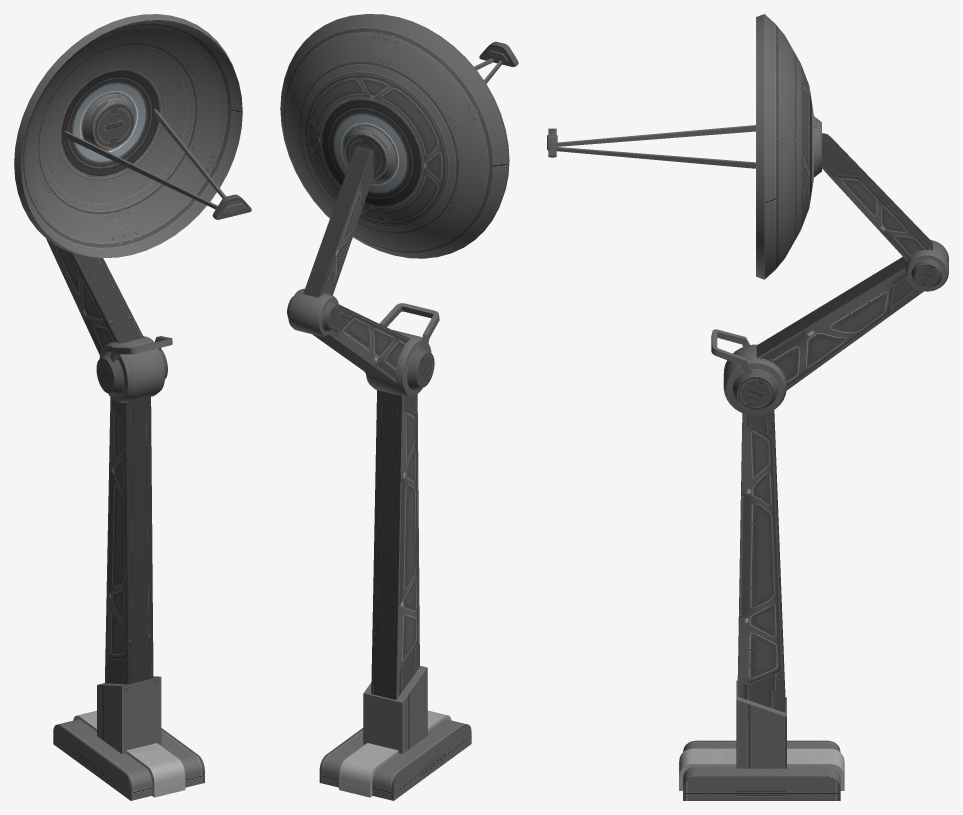
Rendered from Prop_SatelliteDish.gltf.
3 views of the same model, side by side, from view 1: azimuth 30°, elevation 25°; view 2: azimuth 150°, elevation 25°; view 3: azimuth 270°, elevation 25° (orthographic).
Parts seen in each view (by area): view 1: Prop_SatelliteDish; view 2: Prop_SatelliteDish; view 3: Prop_SatelliteDish.
Boxes of the visible parts, x1,y1,x2,y2 form: Prop_SatelliteDish: [14, 14, 251, 800]; Prop_SatelliteDish: [280, 14, 518, 800]; Prop_SatelliteDish: [547, 14, 948, 800].
Bounding box in the file's own units: 1.84 × 5.79 × 2.78.
3 materials, 3 textured.
